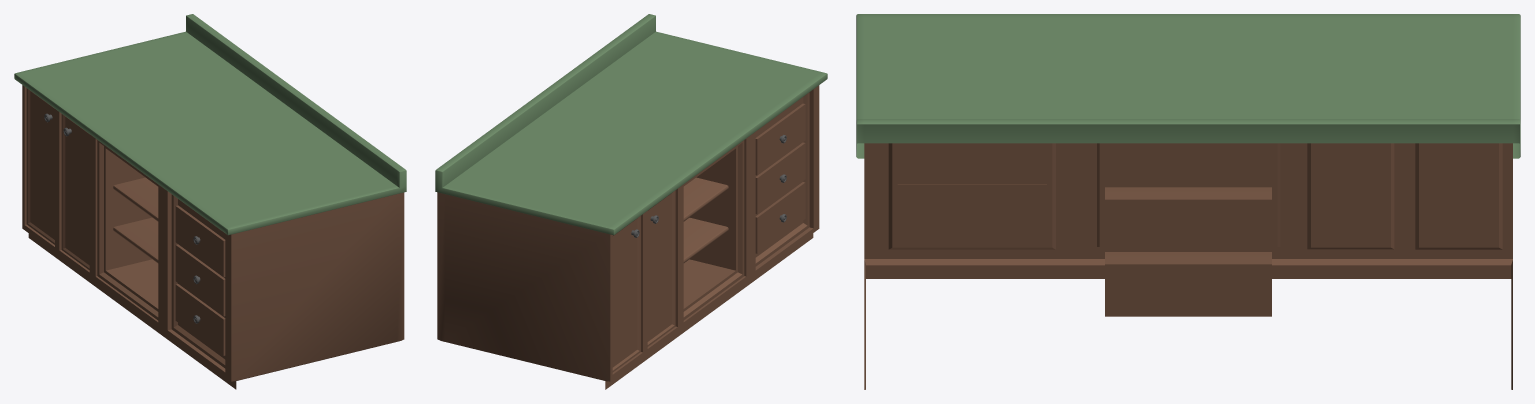
Rendered from cabinet_fixed.fbx.
3 views of the same model, side by side, from view 1: azimuth 30°, elevation 25°; view 2: azimuth 150°, elevation 25°; view 3: azimuth 270°, elevation 25° (orthographic). The views are drawn at different scales.
Visible parts, largest first — view 1: Counter_low; view 2: Counter_low; view 3: Counter_low.
Boxes of the visible parts, x1,y1,x2,y2 form: Counter_low: [14, 14, 406, 389]; Counter_low: [435, 14, 827, 389]; Counter_low: [856, 14, 1520, 389].
Size of the model in its own units: 899 by 870 by 1859.
